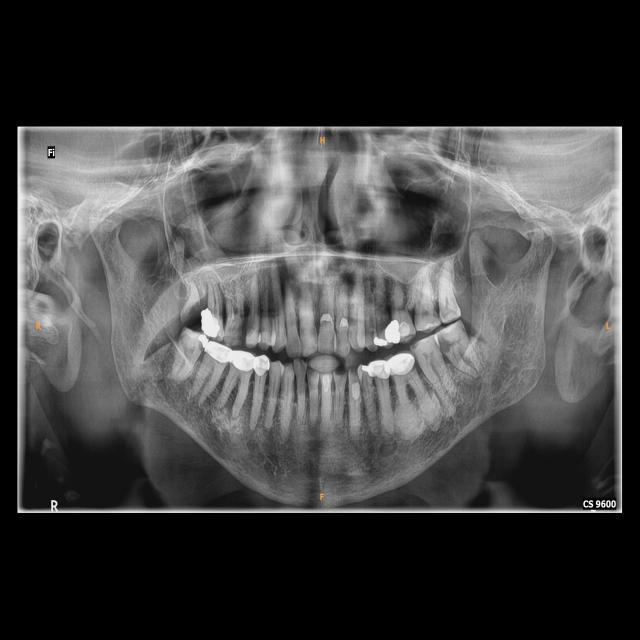dentin-curugu: (438, 338, 453, 356), (246, 314, 256, 338)
dolgu: (392, 316, 411, 342), (320, 310, 334, 331), (349, 380, 361, 402), (372, 333, 388, 348), (194, 334, 208, 346), (337, 315, 348, 330), (358, 363, 368, 375)
kaplama: (199, 308, 224, 339), (387, 353, 415, 376), (205, 342, 231, 363), (232, 351, 256, 372), (369, 360, 391, 379), (253, 355, 270, 374)
